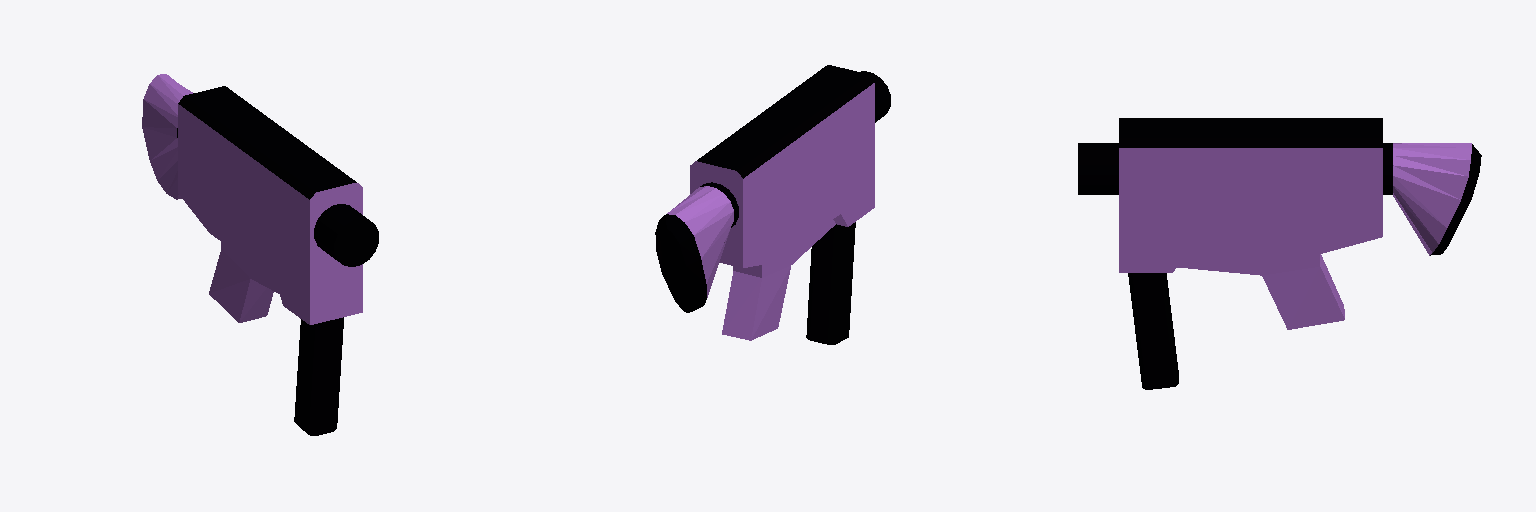
Rendered from rifle.obj.
3 views of the same model, side by side, from view 1: azimuth 30°, elevation 25°; view 2: azimuth 150°, elevation 25°; view 3: azimuth 270°, elevation 25° (orthographic).
Parts seen in each view (by area): view 1: Cylinder; view 2: Cylinder; view 3: Cylinder.
Boxes of the visible parts, box(x1,y1,x2,y2) form: Cylinder: box(142, 74, 378, 435); Cylinder: box(655, 65, 890, 344); Cylinder: box(1078, 118, 1481, 389).
Bounding box in the file's own units: 1.23 × 5.66 × 8.11.